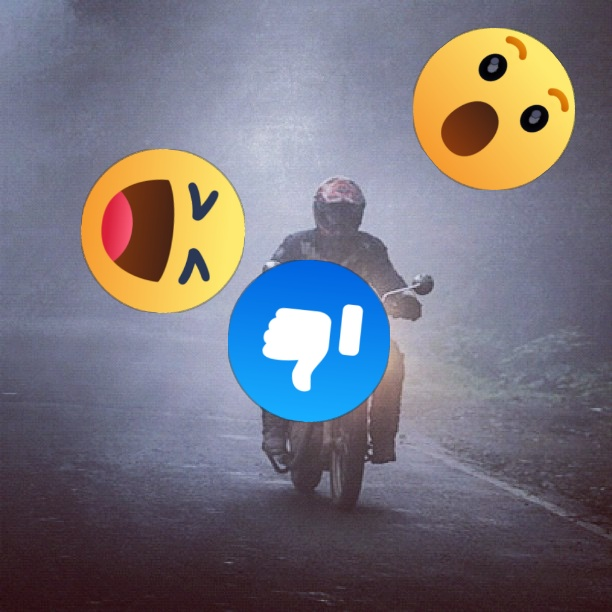haha: (81, 149, 245, 313)
like: (228, 260, 390, 422)
wow: (413, 28, 575, 190)
